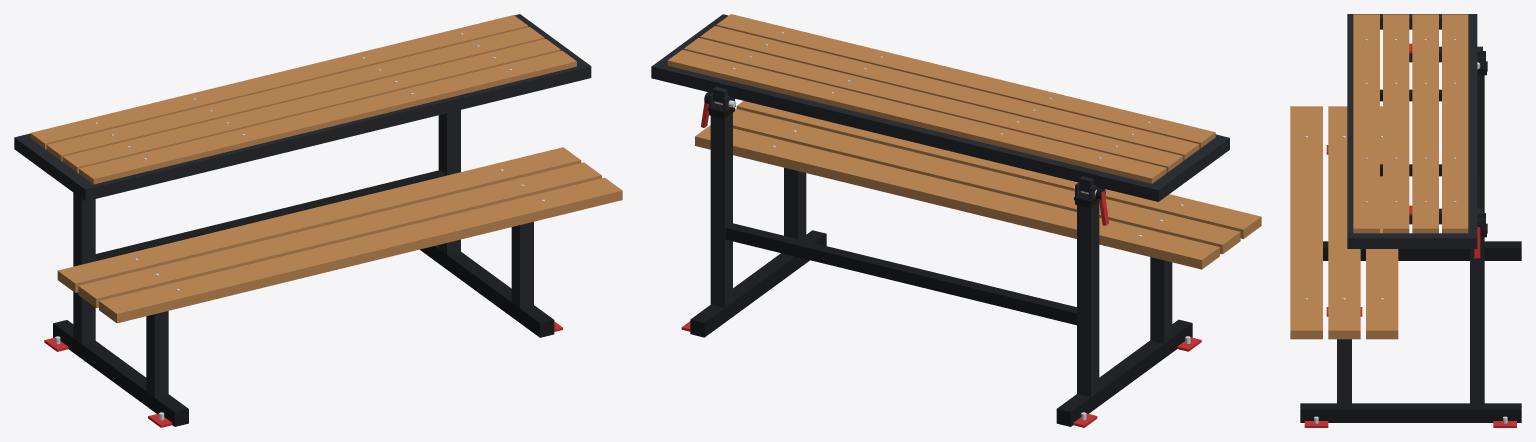
The model's file is convertible_bench.glb.
3 renders of one model, left to right at view 1: azimuth 30°, elevation 25°; view 2: azimuth 150°, elevation 25°; view 3: azimuth 270°, elevation 25°, orthographic. The views are drawn at different scales.
Visible parts, largest first — view 1: Seat_Slat_Wood_03, Seat_Slat_Wood_01, Seat_Slat_Wood_02, Tabletop_Slat_Wood_04, Tabletop_Slat_Wood_01, Tabletop_Slat_Wood_02, Tabletop_Slat_Wood_03, Tabletop_Front_Steel_Beam, Base_Runner_Left, Base_Runner_Right, Rear_Frame_Crossmember, Rear_Vertical_Post_Left (+4 smaller); view 2: Seat_Slat_Wood_01, Seat_Slat_Wood_02, Tabletop_Slat_Wood_01, Tabletop_Rear_Steel_Beam, Tabletop_Slat_Wood_04, Tabletop_Slat_Wood_03, Tabletop_Slat_Wood_02, Rear_Frame_Crossmember, Seat_Slat_Wood_03, Rear_Vertical_Post_Left, Rear_Vertical_Post_Right, Base_Runner_Left (+4 smaller); view 3: Seat_Slat_Wood_03, Tabletop_Slat_Wood_02, Tabletop_Slat_Wood_04, Tabletop_Slat_Wood_01, Tabletop_Slat_Wood_03, Seat_Slat_Wood_02, Base_Runner_Right, Seat_Slat_Wood_01, Rear_Vertical_Post_Right, Tabletop_Rear_Steel_Beam, Tabletop_Right_End_Cap, Base_Runner_Left (+4 smaller).
Part boxes in pixels (x1,y1,x2,y2): Seat_Slat_Wood_03: [99, 177, 622, 323]; Seat_Slat_Wood_01: [57, 147, 581, 292]; Seat_Slat_Wood_02: [78, 162, 601, 308]; Tabletop_Slat_Wood_04: [79, 50, 576, 184]; Tabletop_Slat_Wood_01: [30, 15, 528, 149]; Tabletop_Slat_Wood_02: [46, 27, 544, 161]; Tabletop_Slat_Wood_03: [62, 39, 560, 173]; Tabletop_Front_Steel_Beam: [79, 61, 591, 201]; Base_Runner_Left: [53, 320, 188, 426]; Base_Runner_Right: [420, 245, 554, 337]; Rear_Frame_Crossmember: [95, 170, 445, 260]; Rear_Vertical_Post_Left: [73, 192, 95, 343]; Seat_Slat_Wood_01: [695, 125, 1219, 269]; Seat_Slat_Wood_02: [733, 108, 1240, 254]; Tabletop_Slat_Wood_01: [667, 49, 1166, 183]; Tabletop_Rear_Steel_Beam: [651, 66, 1164, 201]; Tabletop_Slat_Wood_04: [716, 14, 1215, 148]; Tabletop_Slat_Wood_03: [700, 26, 1199, 160]; Tabletop_Slat_Wood_02: [684, 38, 1182, 172]; Rear_Frame_Crossmember: [725, 223, 1076, 325]; Seat_Slat_Wood_03: [736, 101, 1261, 238]; Rear_Vertical_Post_Left: [1077, 202, 1099, 397]; Rear_Vertical_Post_Right: [710, 113, 732, 307]; Base_Runner_Left: [1056, 319, 1192, 426]; Seat_Slat_Wood_03: [1290, 106, 1322, 339]; Tabletop_Slat_Wood_02: [1412, 14, 1438, 233]; Tabletop_Slat_Wood_04: [1353, 14, 1379, 233]; Tabletop_Slat_Wood_01: [1442, 14, 1468, 233]; Tabletop_Slat_Wood_03: [1383, 14, 1409, 233]; Seat_Slat_Wood_02: [1328, 106, 1360, 339]; Base_Runner_Right: [1300, 403, 1521, 422]; Seat_Slat_Wood_01: [1366, 106, 1398, 339]; Rear_Vertical_Post_Right: [1470, 237, 1484, 409]; Tabletop_Rear_Steel_Beam: [1465, 14, 1477, 248]; Tabletop_Right_End_Cap: [1348, 233, 1476, 248]; Base_Runner_Left: [1323, 241, 1521, 260].
Bounding box in the file's own units: 1.8 × 0.816 × 0.783.
